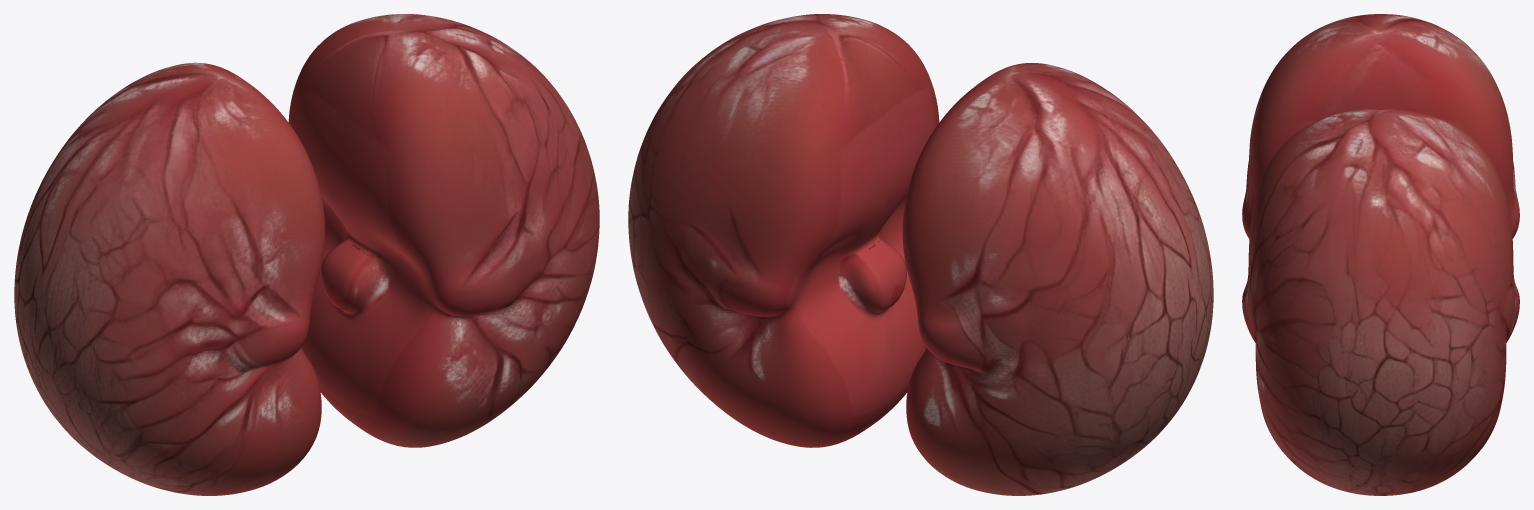
Rendered from cow_kidneys.glb.
The picture shows the model from 3 angles, left to right: view 1: azimuth 30°, elevation 25°; view 2: azimuth 150°, elevation 25°; view 3: azimuth 270°, elevation 25°; orthographic projection. The views are drawn at different scales.
Parts seen in each view (by area): view 1: model; view 2: model; view 3: model.
Part boxes in pixels (x1=…): model: x1=14, y1=14, x2=599, y2=495; model: x1=628, y1=14, x2=1213, y2=495; model: x1=1242, y1=14, x2=1519, y2=495.
Bounding box in the file's own units: 1.9 × 1.34 × 0.9188.
Materials: 1 (1 with a texture image).
